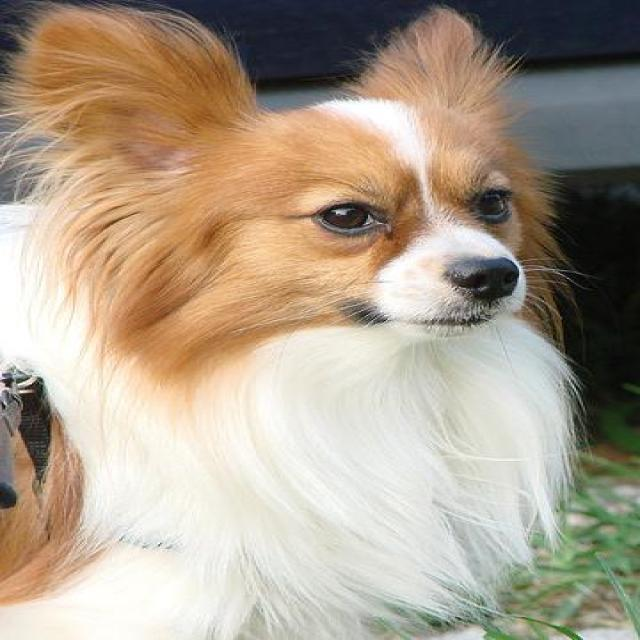papillon: (1, 2, 586, 638)
